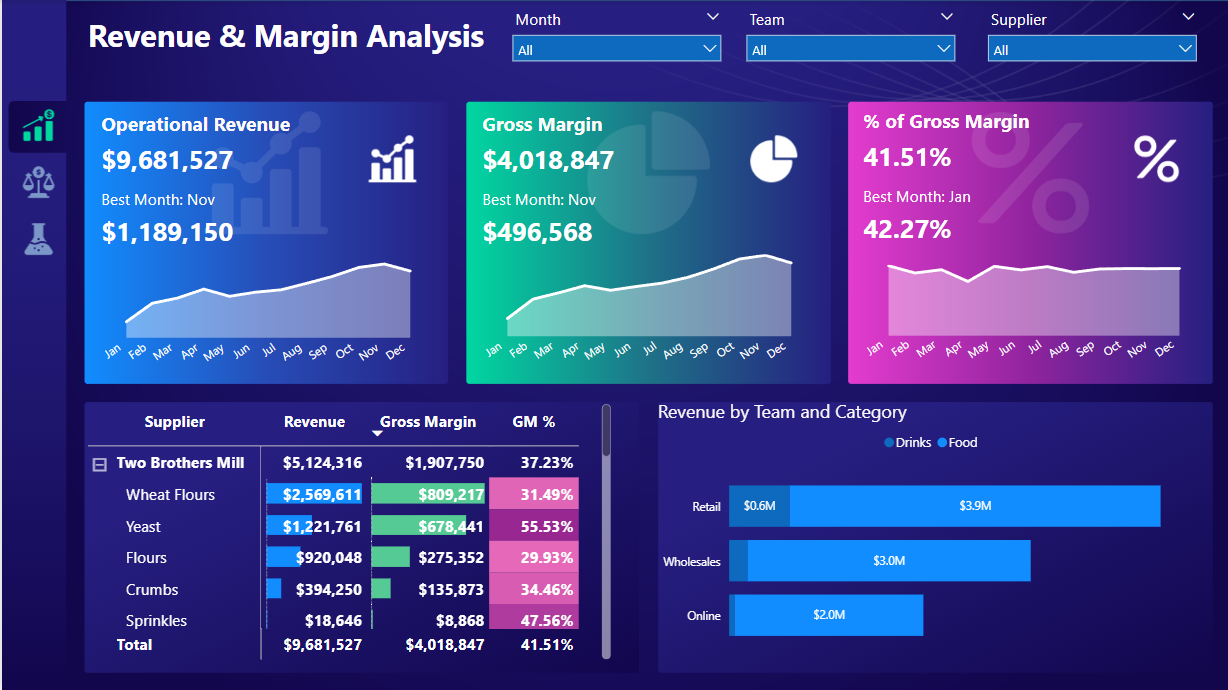

This screenshot's page, from the dashboard's own definition file:
{"tool":"powerbi","page":{"name":"Rev & Margin Analysis","canvas":[1280,720],"ordinal":0},"visuals":[{"type":"multiRowCard","title":"Operational Revenue","fields":{"Values":["Key Measures.Revenue"]},"box":[98.1,116.3,259.5,75],"z":0},{"type":"multiRowCard","title":"Operational Revenue","fields":{"Values":["Key Measures.Revenue","Key Measures.Best Month"]},"box":[98.1,191.3,259.5,75],"z":1000},{"type":"areaChart","fields":{"Category":["dCalendar.Month"],"Y":["Key Measures.Revenue"]},"box":[98.5,240.7,342.3,157.9],"z":2000},{"type":"multiRowCard","title":"Gross Margin","fields":{"Values":["Key Measures.Gross Margin"]},"box":[494.9,115,259.5,75],"z":3000},{"type":"multiRowCard","title":"Operational Revenue","fields":{"Values":["Key Measures.Best Month","Key Measures.Gross Margin"]},"box":[494.9,190,259.5,75],"z":4000},{"type":"areaChart","fields":{"Category":["dCalendar.Month"],"Y":["Key Measures.Gross Margin"]},"box":[495.5,251.6,342.3,145.4],"z":5000},{"type":"multiRowCard","title":"% of Gross Margin","fields":{"Values":["Key Measures.Gross Margin %"]},"box":[893,112.5,259.5,75],"z":6000},{"type":"multiRowCard","title":"Operational Revenue","fields":{"Values":["Key Measures.Best Month","Key Measures.Gross Margin %"]},"box":[893,187.5,259.5,75],"z":7000},{"type":"areaChart","fields":{"Category":["dCalendar.Month"],"Y":["Key Measures.Gross Margin %"]},"box":[892.5,262.6,350.1,132.9],"z":8000},{"type":"pivotTable","fields":{"Rows":["dSupplier.Supplier","dProduct.Group"],"Values":["Key Measures.Revenue","Key Measures.Gross Margin","Key Measures.Gross Margin %"]},"box":[84.4,415.8,554.9,276.6],"z":9000},{"type":"barChart","fields":{"Y":["Key Measures.Revenue"],"Category":["fRevenue.Team"],"Series":["dProduct.Category"]},"box":[678.3,415.8,583,276.6],"z":10000},{"type":"slicer","fields":{"Values":["dCalendar.Month"]},"box":[521.3,3.3,237.6,84.4],"z":11000},{"type":"slicer","fields":{"Values":["dSupplier.Supplier"]},"box":[1016.8,3.3,237.6,84.4],"z":12000},{"type":"slicer","fields":{"Values":["fRevenue.Team"]},"box":[765.2,3.3,237.6,84.4],"z":13000},{"type":"image","box":[8,99.3,60,60],"z":14000},{"type":"image","box":[8,159.3,60,60],"z":15000},{"type":"image","box":[8,219.3,60,60],"z":16000},{"type":"textbox","box":[85,10,436.7,90],"z":17000}]}

Visuals, with their boxes in screenshot pixels (x1, y1, x2, y2), scaled from the page's 1280x720 canvas onto the 1228x690 screenshot:
"Operational Revenue" multiRowCard: x1=94 y1=111 x2=343 y2=183
"Operational Revenue" multiRowCard: x1=94 y1=183 x2=343 y2=255
areaChart - dCalendar.Month x Key Measures.Revenue: x1=94 y1=231 x2=423 y2=382
"Gross Margin" multiRowCard: x1=475 y1=110 x2=724 y2=182
"Operational Revenue" multiRowCard: x1=475 y1=182 x2=724 y2=254
areaChart - dCalendar.Month x Key Measures.Gross Margin: x1=475 y1=241 x2=804 y2=380
"% of Gross Margin" multiRowCard: x1=857 y1=108 x2=1106 y2=180
"Operational Revenue" multiRowCard: x1=857 y1=180 x2=1106 y2=252
areaChart - dCalendar.Month x Key Measures.Gross Margin %: x1=856 y1=252 x2=1192 y2=379
pivotTable - dSupplier.Supplier x dProduct.Group: x1=81 y1=398 x2=613 y2=664
barChart - Key Measures.Revenue x fRevenue.Team: x1=651 y1=398 x2=1210 y2=664
slicer - dCalendar.Month: x1=500 y1=3 x2=728 y2=84
slicer - dSupplier.Supplier: x1=975 y1=3 x2=1203 y2=84
slicer - fRevenue.Team: x1=734 y1=3 x2=962 y2=84
image: x1=8 y1=95 x2=65 y2=153
image: x1=8 y1=153 x2=65 y2=210
image: x1=8 y1=210 x2=65 y2=268
textbox: x1=82 y1=10 x2=501 y2=96
